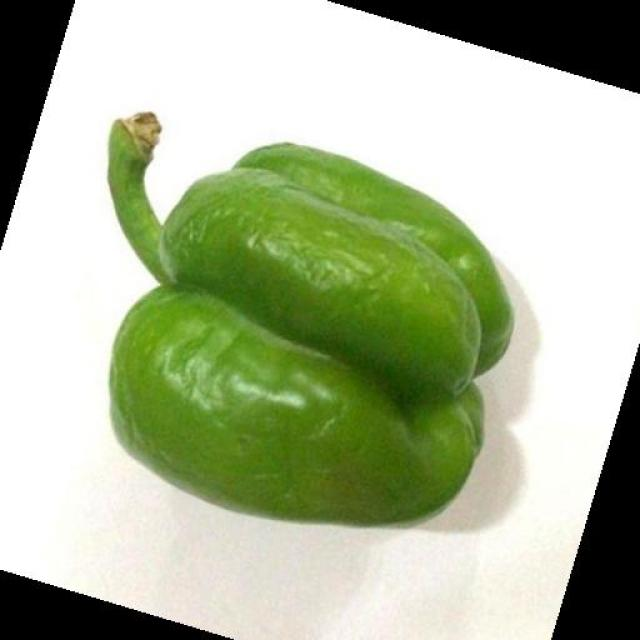Fresh_Capsicum: (94, 119, 521, 512)
